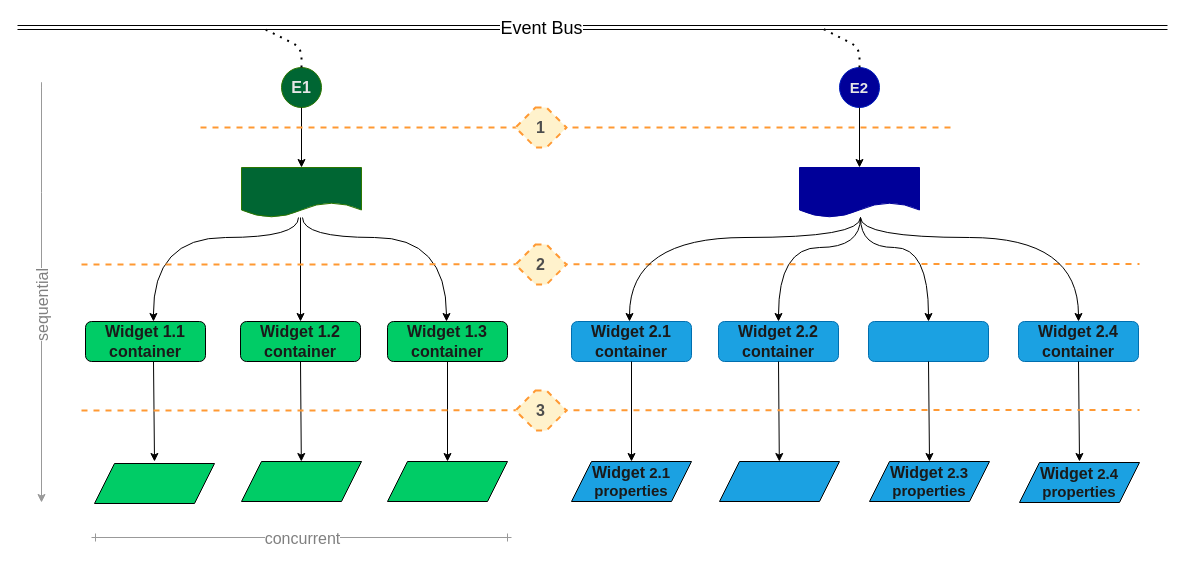
Some shapes in this 1185 by 565 pixel diagram are drawn without their labels. The box of each missing label's shape, as (x1, y1, x2, y2) in pixels:
Document 1: (240, 166, 362, 218)
Document 2: (798, 166, 920, 218)
Widget 1.1 properties: (94, 462, 214, 504)
Widget 1.2 properties: (240, 460, 362, 502)
Widget 1.3 properties: (386, 460, 508, 502)
Widget 2.2 properties: (718, 460, 840, 502)
Widget 2.3 container: (868, 320, 988, 362)
